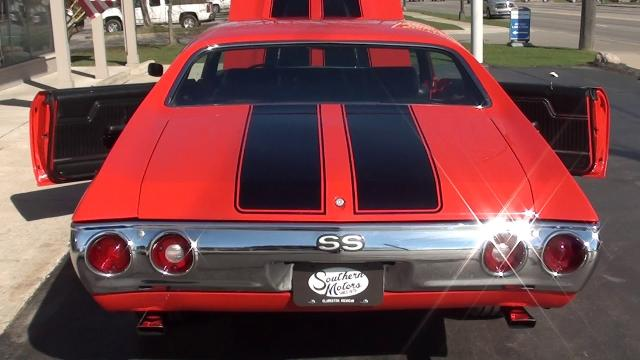chevelle-1972: (30, 0, 611, 333)
